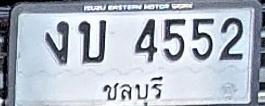2: (219, 17, 243, 60)
4: (134, 18, 157, 62)
5: (162, 18, 186, 61), (192, 17, 214, 60)
A07: (45, 20, 69, 64)
A26: (78, 20, 106, 64)
CBI: (99, 74, 163, 106)
